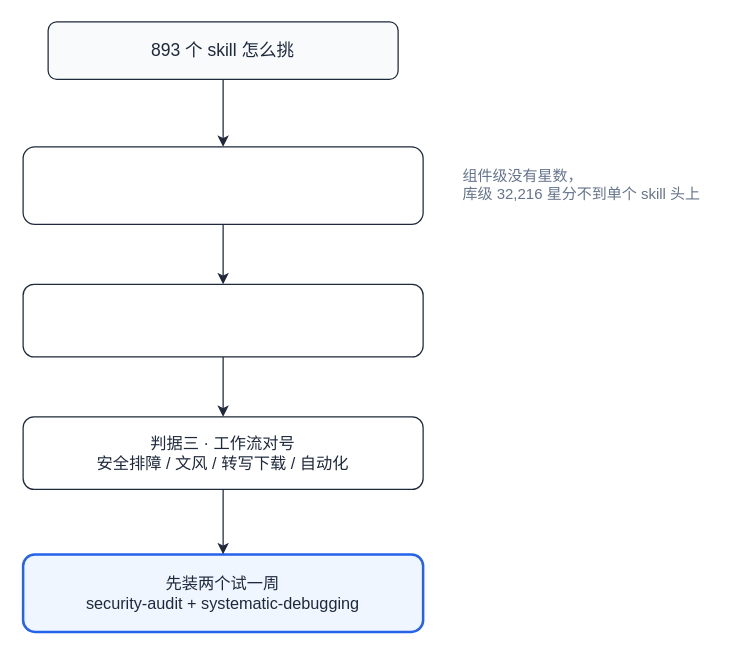
This 731x655 diagram has some shape labels left out. The shapes that lost their labels are listed below. From the top down, each one's centre as x and y in pixels, then its label:
the point at 222,185: 判据一 · 公司挂名优先 doordash 5 个 / sentry 6 个 / railway 12 个
the point at 222,320: 判据二 · 分类厚度 development 230 个最厚，淘到好货机会大
